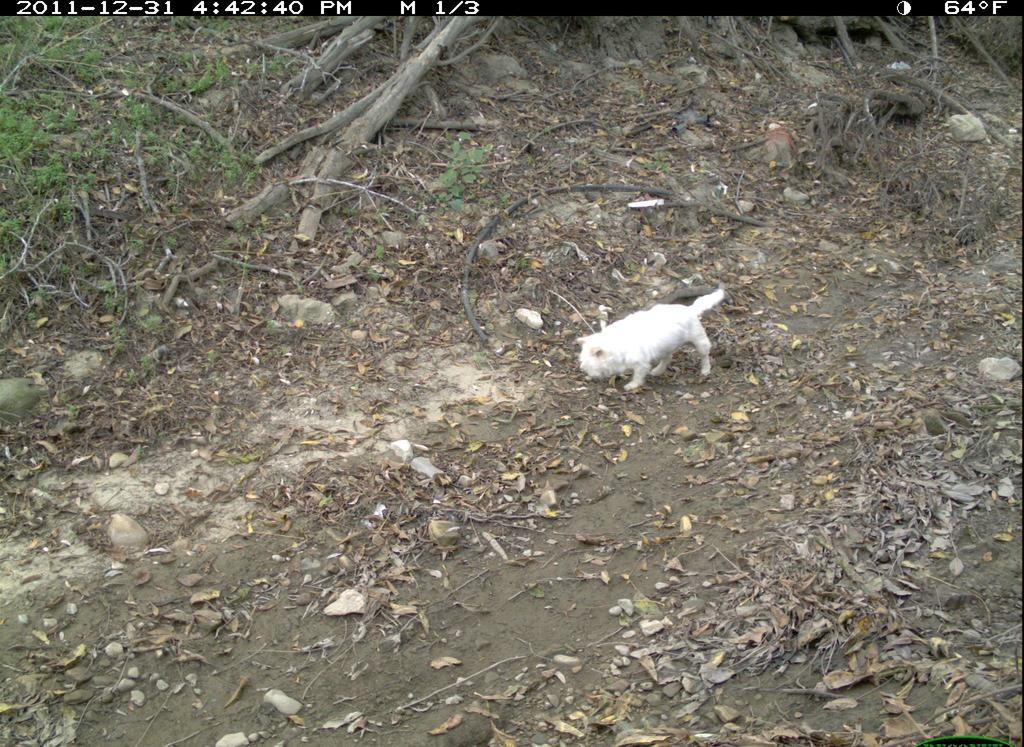dog: (570, 278, 730, 400)
